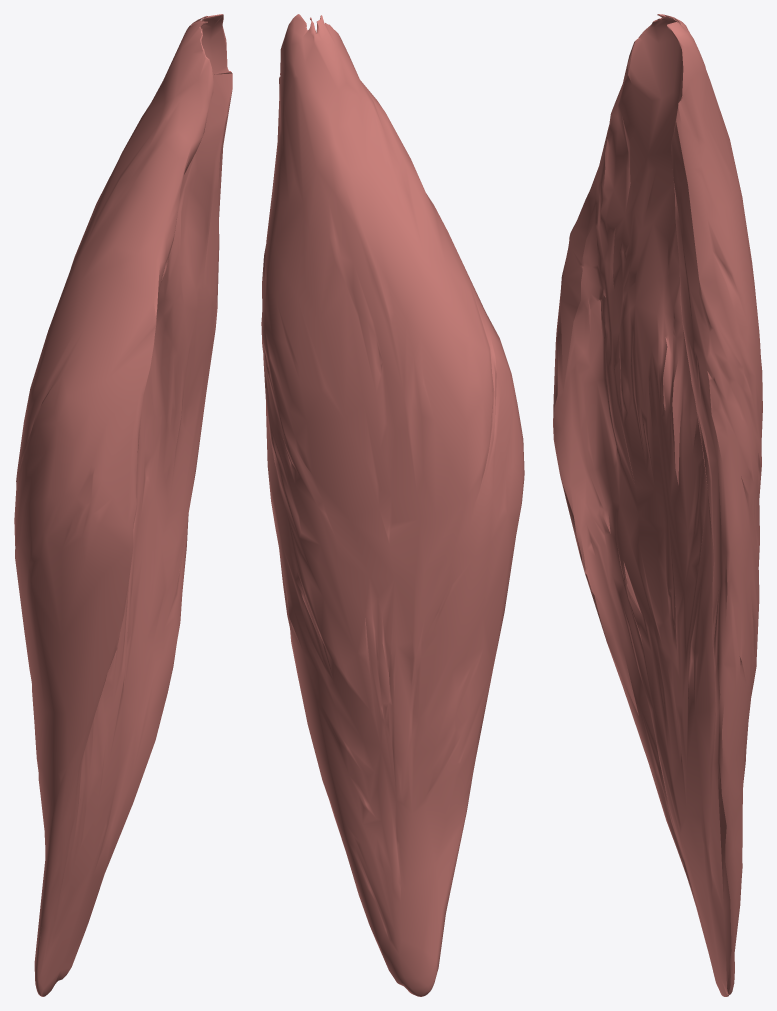
Rendered from fma22559_fj1437m.glb.
3 renders of one model, left to right at view 1: azimuth 30°, elevation 25°; view 2: azimuth 150°, elevation 25°; view 3: azimuth 270°, elevation 25°, orthographic. The views are drawn at different scales.
Visible parts, largest first — view 1: FMA22559_FJ1437M; view 2: FMA22559_FJ1437M; view 3: FMA22559_FJ1437M.
Part boxes in pixels (x1,y1,x2,y2): FMA22559_FJ1437M: (14,14,232,996); FMA22559_FJ1437M: (261,14,524,996); FMA22559_FJ1437M: (553,14,762,996).
Bounding box in the file's own units: 0.0802 × 0.3262 × 0.0589.
